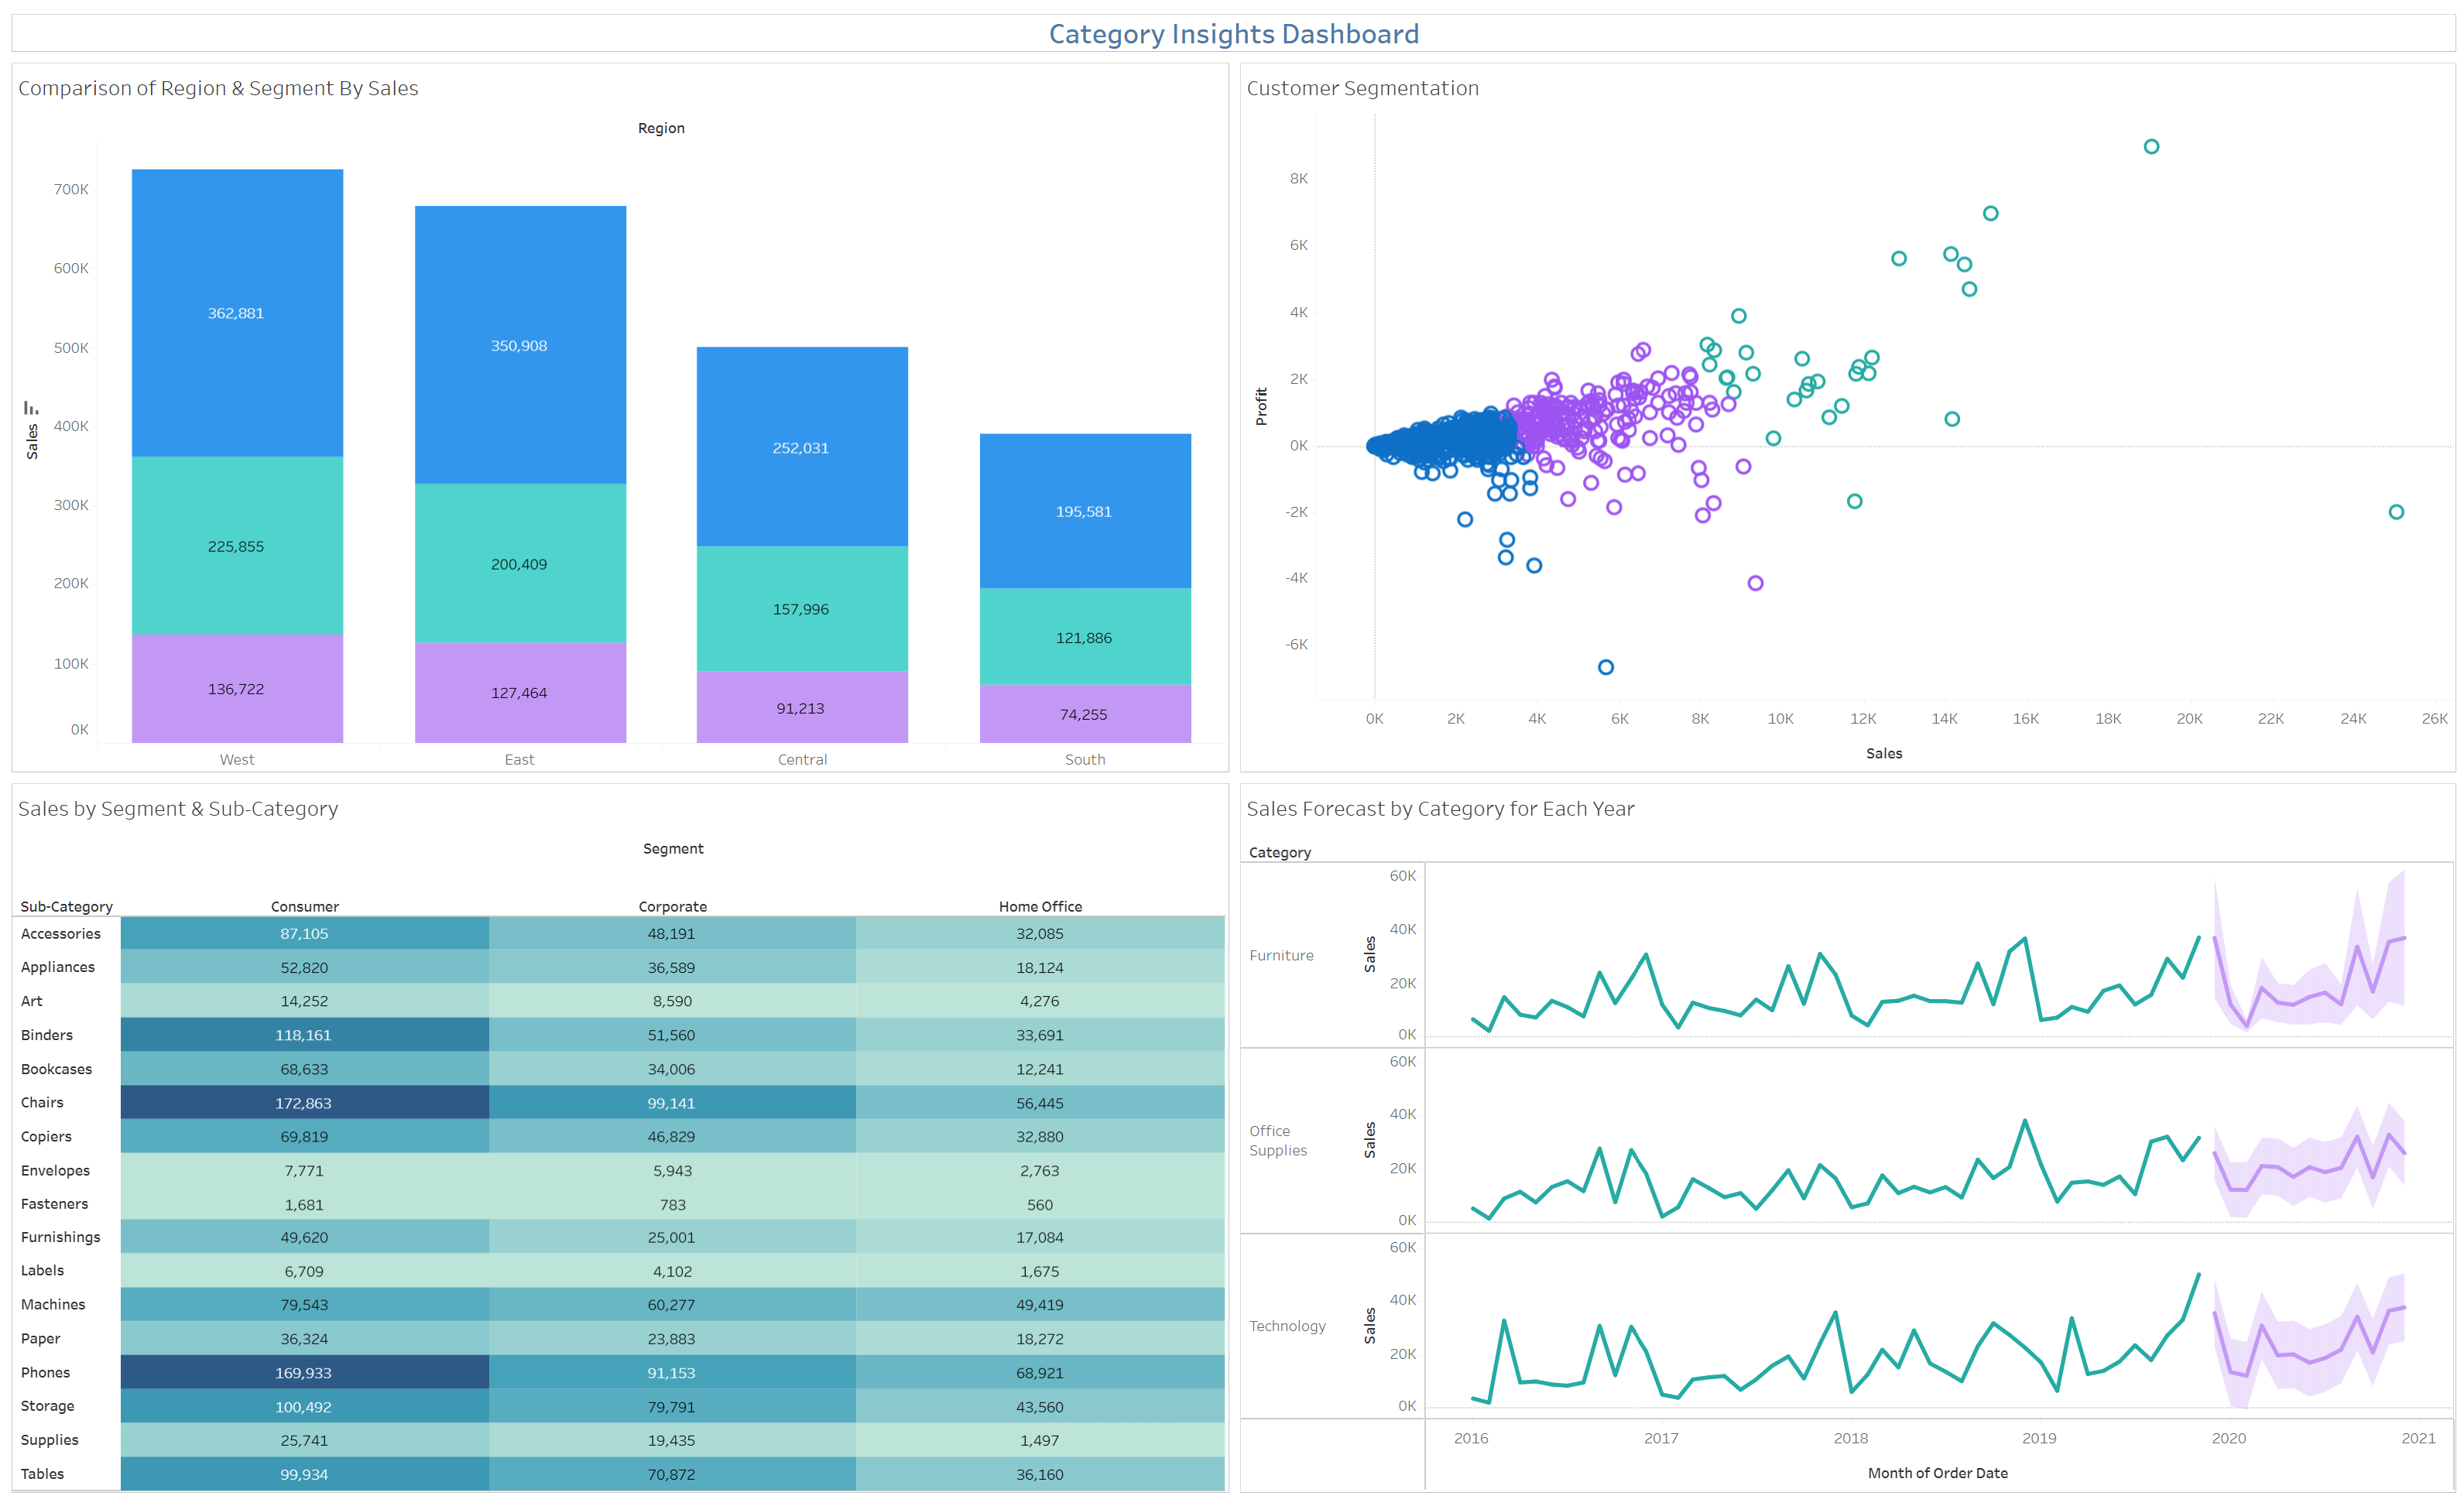

The page's visual inventory and layout, read from the dashboard file:
{"tool":"tableau","page":{"name":"Dashboard 1","canvas":[1000,1000],"units":"permille","ordinal":0},"visuals":[{"type":"title","box":[5.8,9.7,988.5,43.5]},{"type":"worksheet","title":"Comparison of Region & Segment By Sales","mark":"Automatic","rows":["Sales"],"cols":["Region"],"box":[5.8,53.2,494.2,468.6]},{"type":"worksheet","title":"Customer Segmentation","mark":"Automatic","rows":["Profit"],"cols":["Sales"],"box":[500,53.2,494.2,468.6]},{"type":"worksheet","title":"Sales by Segment & Sub-Category","mark":"Automatic","rows":["Sub-Category"],"cols":["Segment"],"box":[5.8,521.8,494.2,468.6]},{"type":"worksheet","title":"Sales Forecast by Category for Each Year","mark":"Automatic","rows":["Category","Sales"],"cols":["Order Date"],"box":[500,521.8,494.2,468.6]}]}

Visuals, with their boxes on the dashboard's canvas, which has no fixed pixel size, in thousandths of its width and height (x1, y1, x2, y2). These are canvas units, not pixel positions in the 2464x1506 screenshot, which may show the page scaled, cropped or inside an application window:
title: [x1=6, y1=10, x2=994, y2=53]
"Comparison of Region & Segment By Sales" worksheet: [x1=6, y1=53, x2=500, y2=522]
"Customer Segmentation" worksheet: [x1=500, y1=53, x2=994, y2=522]
"Sales by Segment & Sub-Category" worksheet: [x1=6, y1=522, x2=500, y2=990]
"Sales Forecast by Category for Each Year" worksheet: [x1=500, y1=522, x2=994, y2=990]
